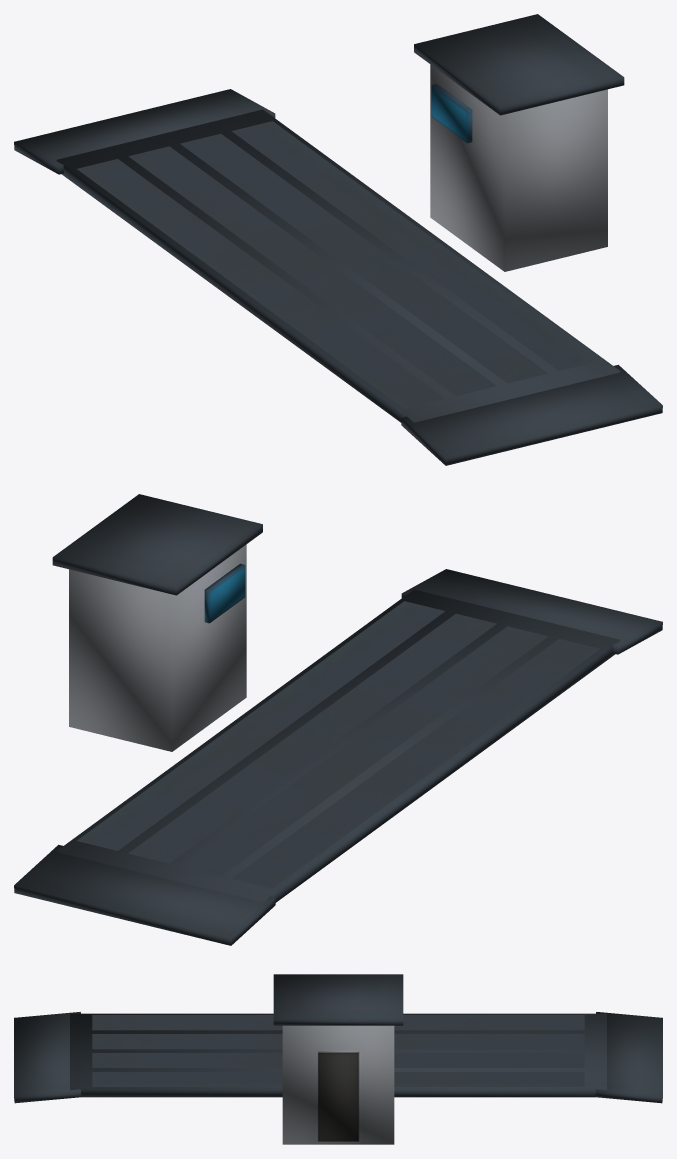
Rendered from yard-weight-scale-body-tripo-original.glb.
The picture shows the model from 3 angles, top to bottom: view 1: azimuth 30°, elevation 25°; view 2: azimuth 150°, elevation 25°; view 3: azimuth 270°, elevation 25°; orthographic projection. The views are drawn at different scales.
Visible parts, largest first — view 1: Authored_surface_045; view 2: Authored_surface_045; view 3: Authored_surface_045.
Part boxes in pixels (<box>): Authored_surface_045: <box>14,14,662,465</box>; Authored_surface_045: <box>14,494,662,945</box>; Authored_surface_045: <box>14,974,662,1144</box>.
Size of the model in its own units: 0.4687 by 0.2257 by 1.
1 material, 1 textured.
